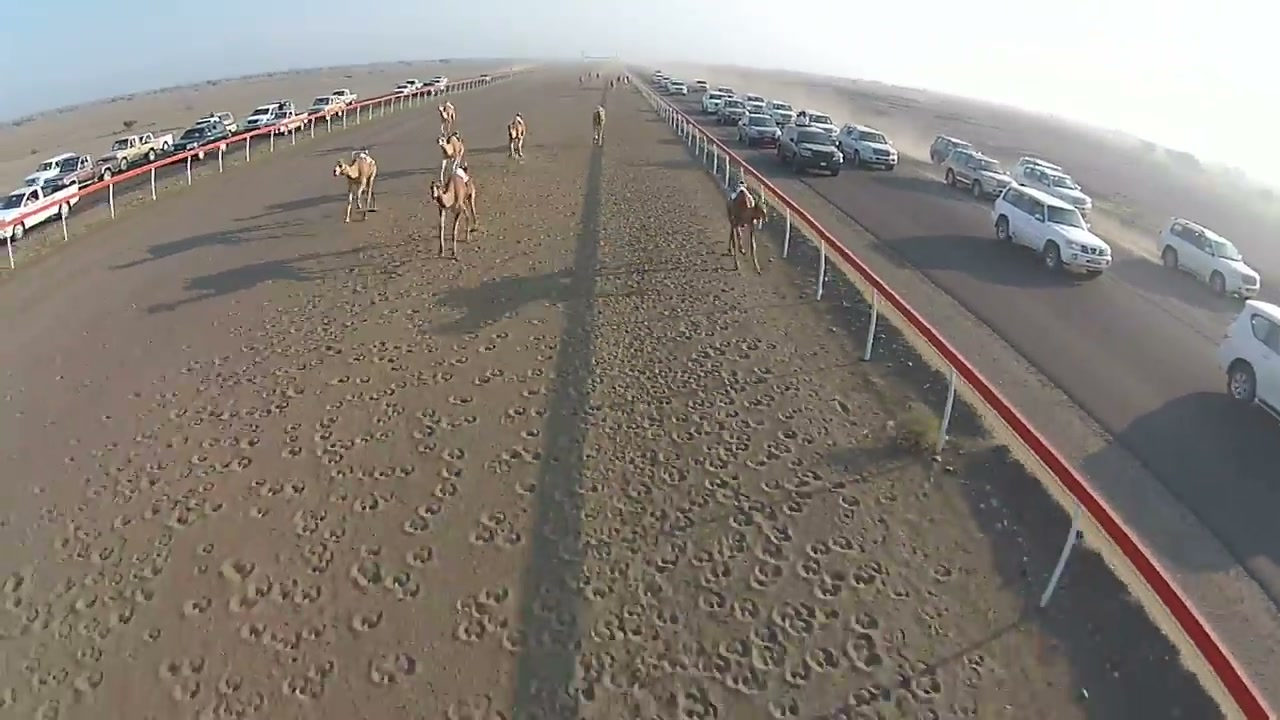animal_foot_print: (0, 94, 1213, 719), (573, 213, 1020, 717), (453, 587, 510, 643), (470, 510, 524, 548), (444, 693, 511, 719), (370, 652, 418, 684)
